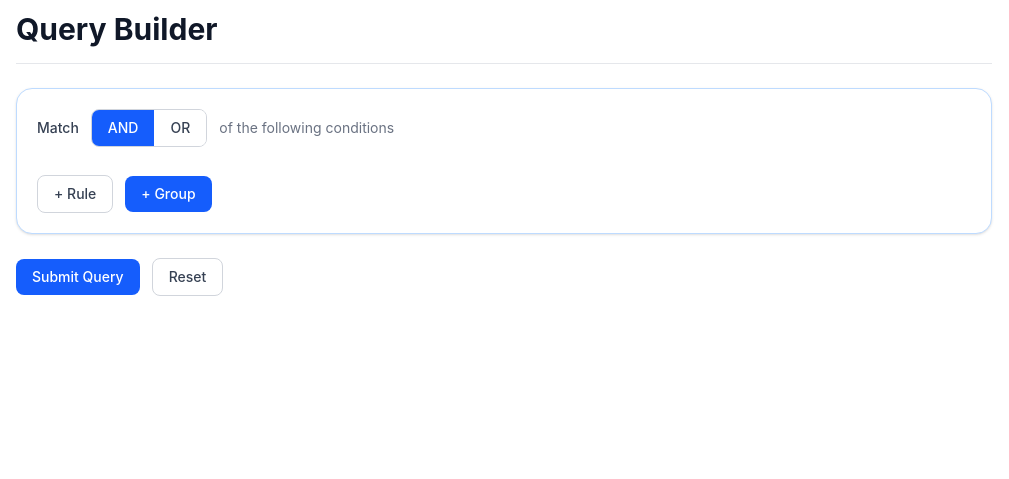
QueryBuilder › removes a nested group when clicking remove button
Click the button with test id "add-group-depth-0": (168, 194) [125,176,212,212]
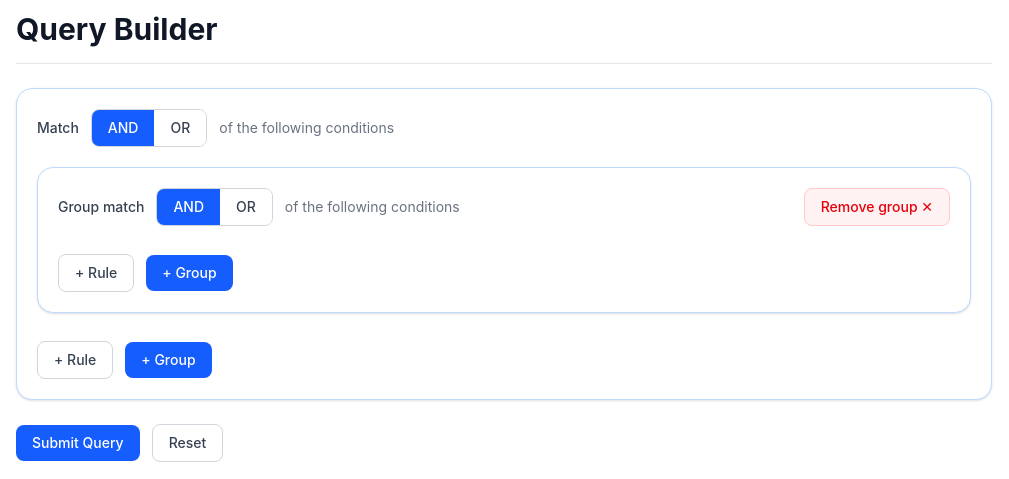
Result: the element with test id "rule-group-depth-1" is shown at [37,167,971,313]
The nested group has its own remove button
Click the button with test id "remove-group-depth-1": (877, 207) [804,188,950,226]
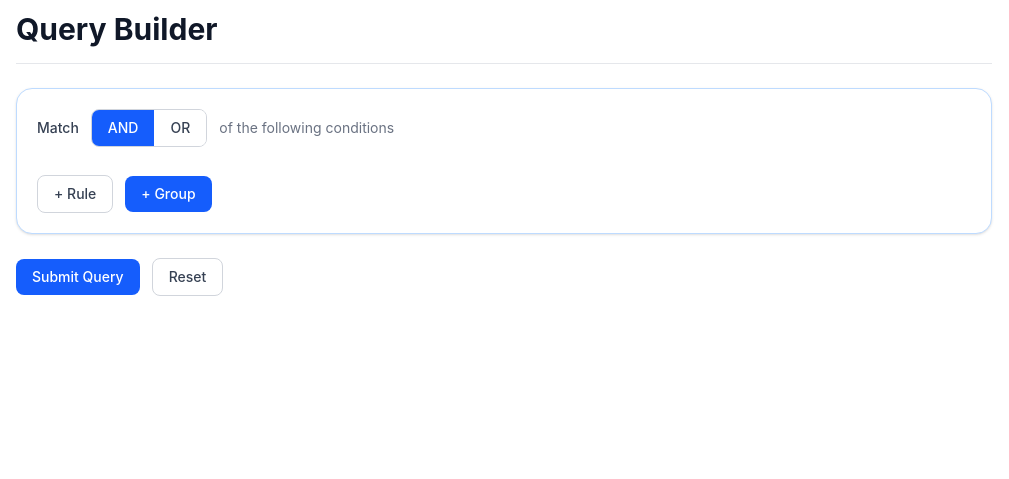
Result: the element with test id "rule-group-depth-1" is gone
